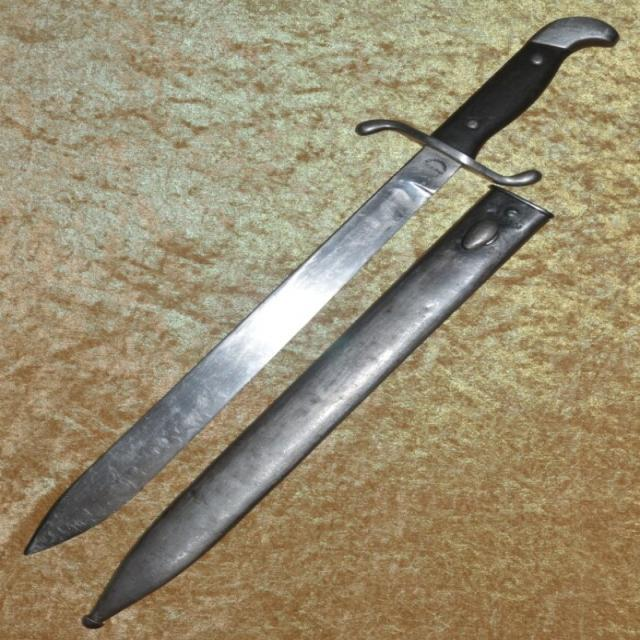short sword: (10, 11, 628, 634)
